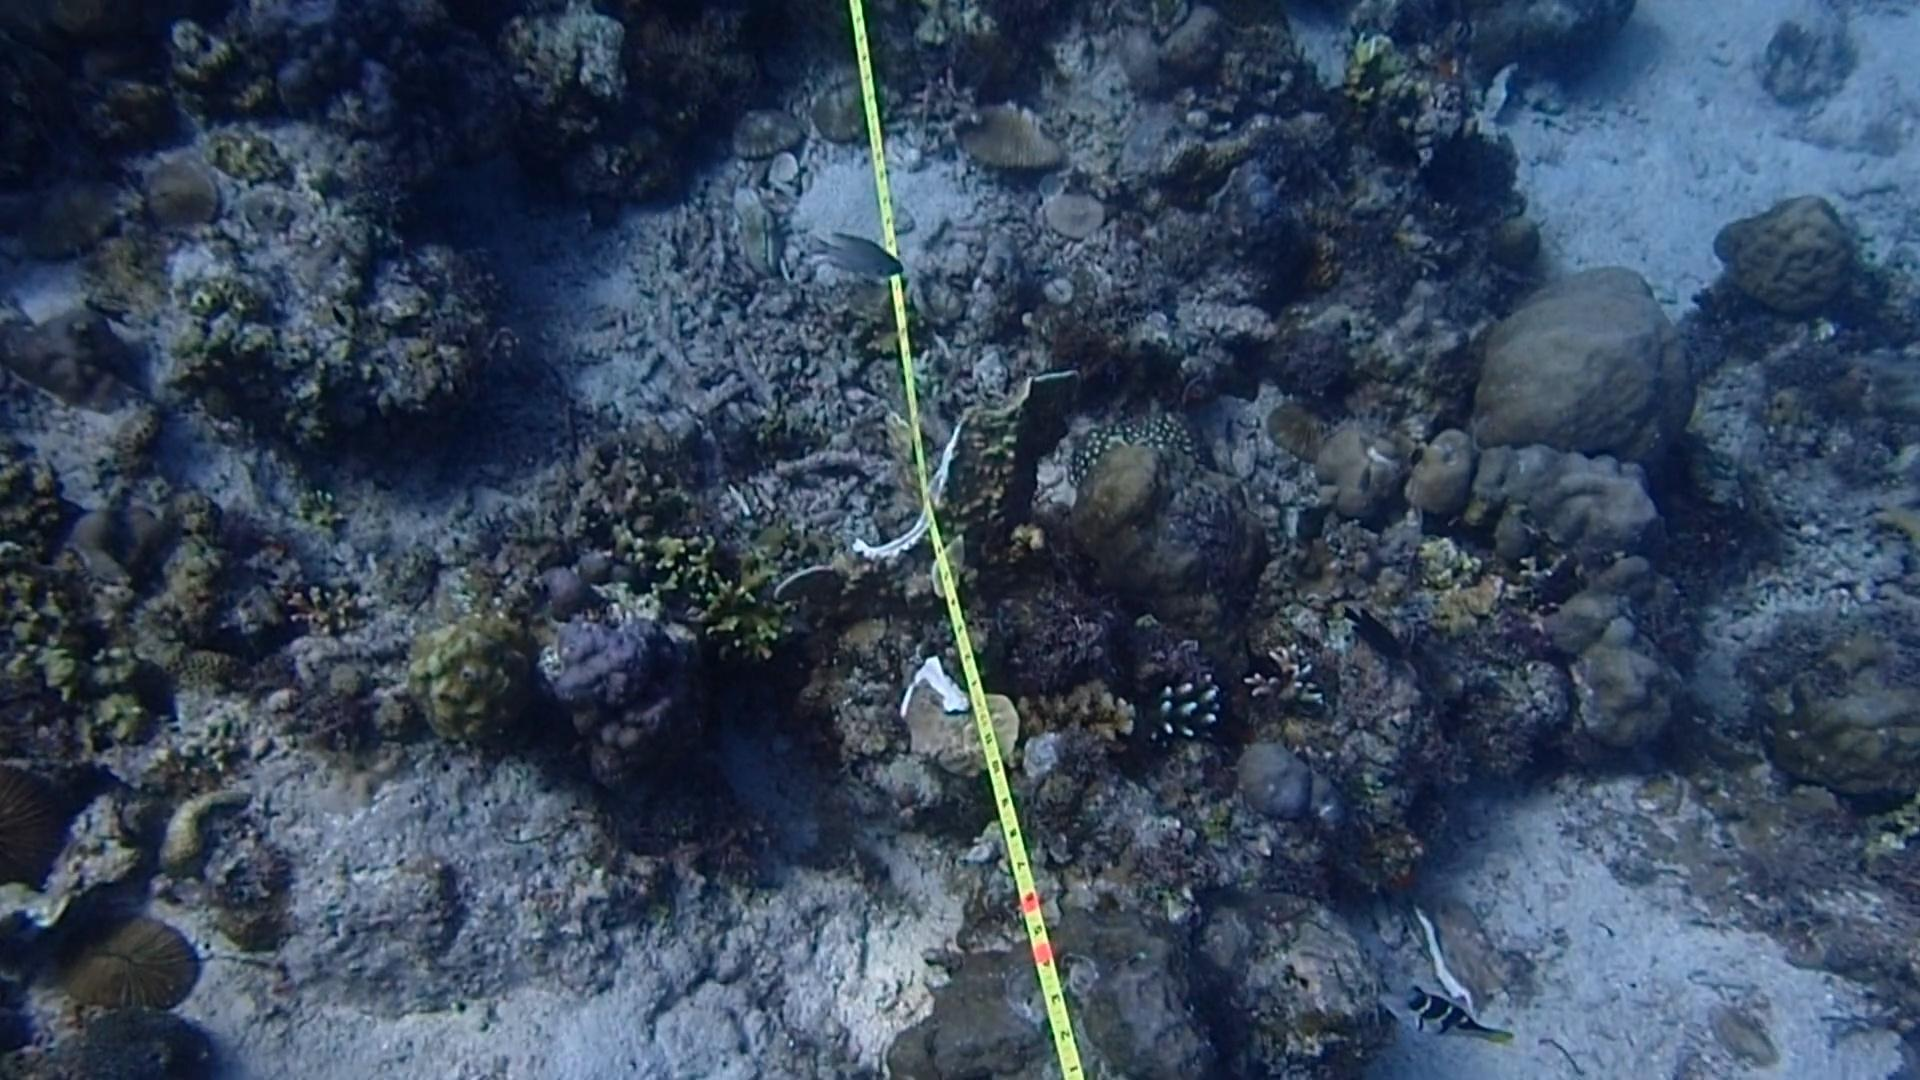Striped Fish: (1393, 981, 1514, 1047)
